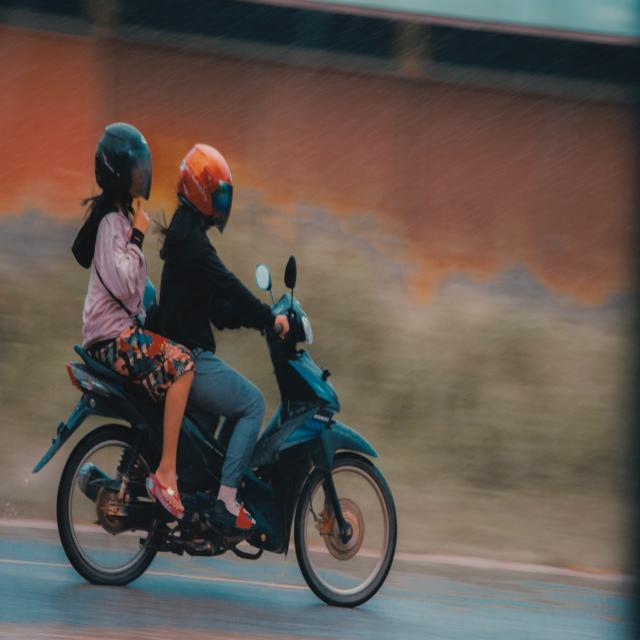With Helmet: (32, 113, 403, 611)
